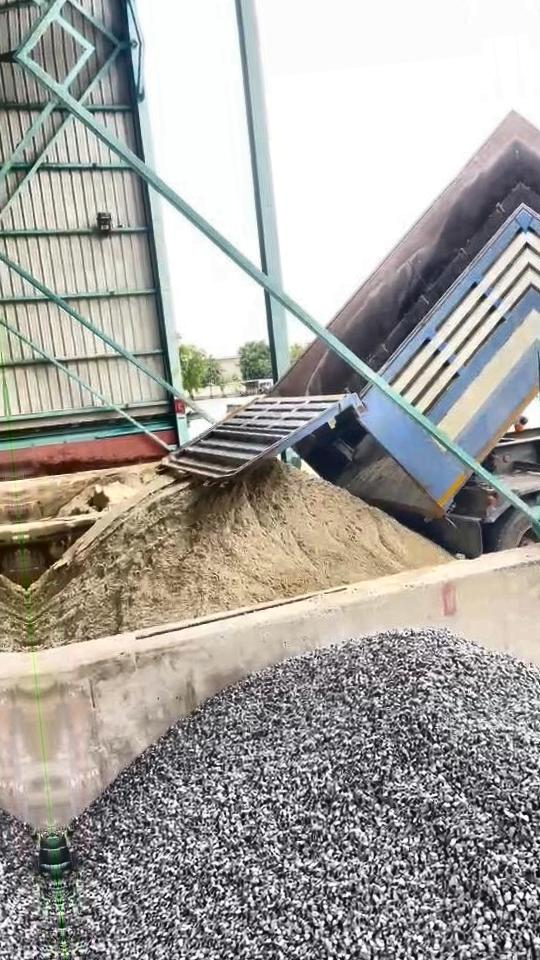gravel: (61, 630, 540, 960)
sand: (29, 462, 451, 646), (23, 471, 158, 527)
